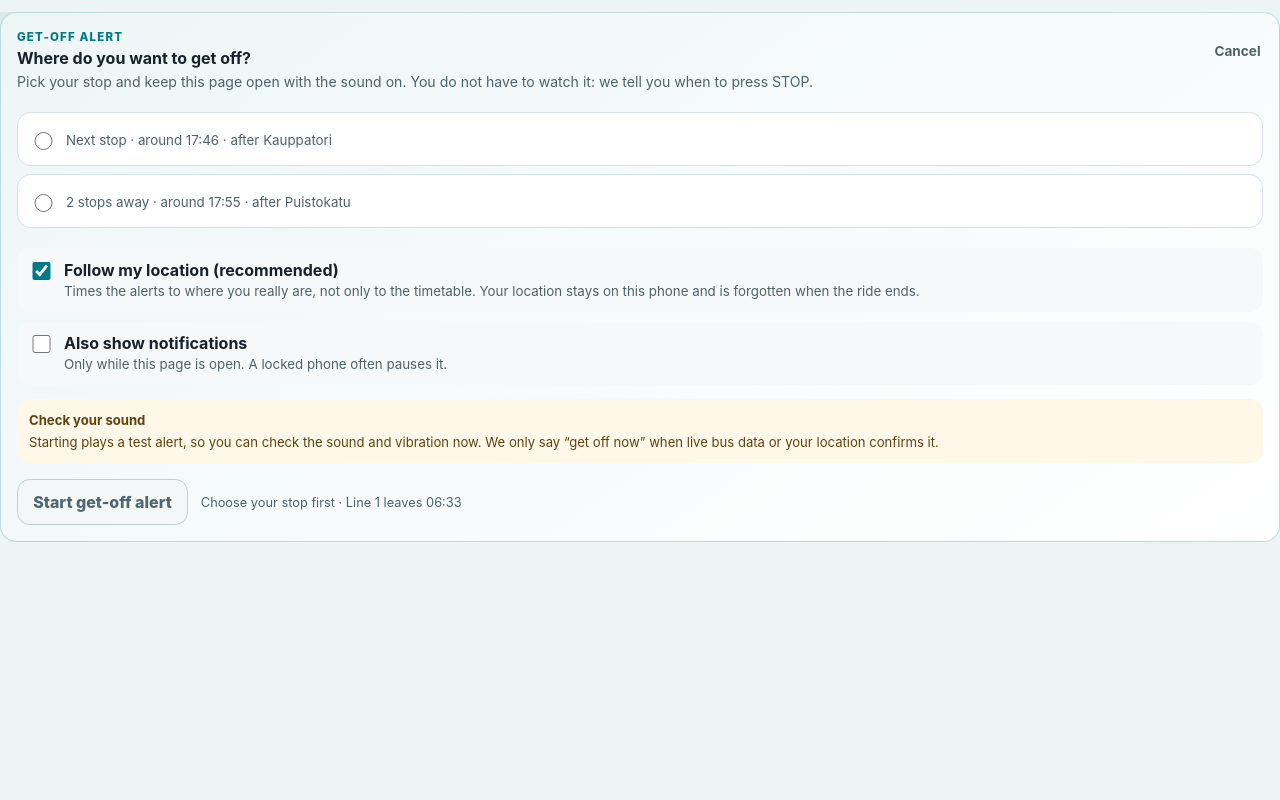
Test: clears a start error once another stop is chosen
This screenshot has width=1280, height=800.
Expected: the button "Start get-off alert" is shown, top-left (17, 479), bottom-right (188, 525)
Click the radio button showing "2" at (43, 141), box top-left (34, 132), bottom-right (53, 150)
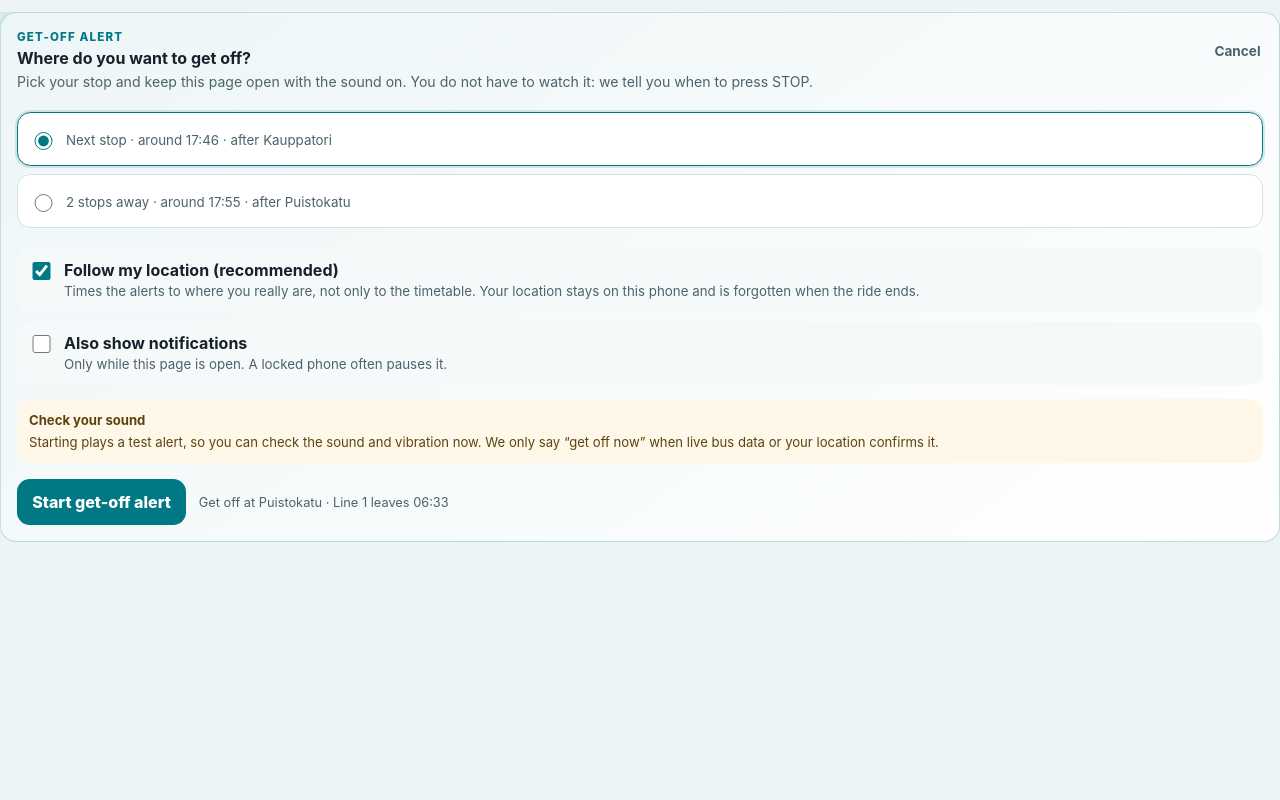
Click the button "Start get-off alert" at (102, 502), box top-left (17, 479), bottom-right (186, 525)
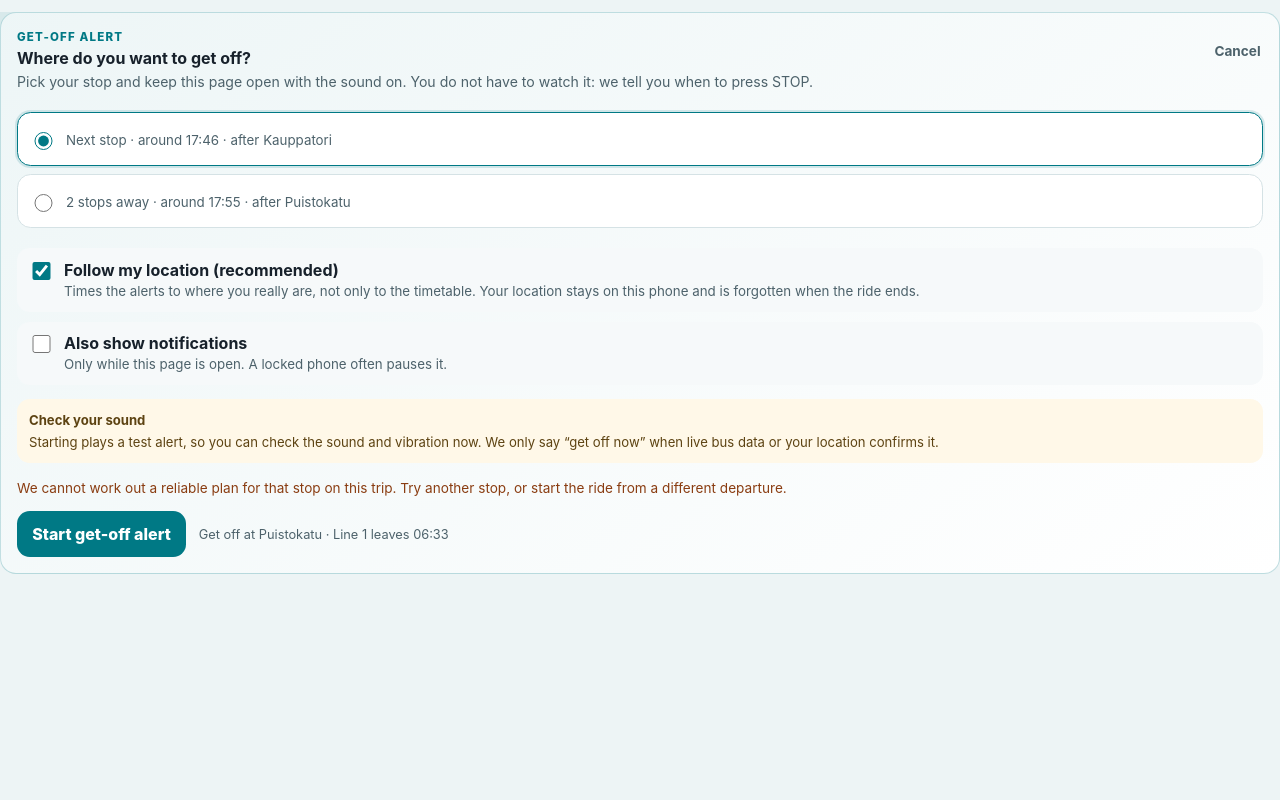
Expected: the message is shown, top-left (17, 480), bottom-right (787, 496)
Click the radio button showing "3" at (43, 203), box top-left (34, 194), bottom-right (53, 212)
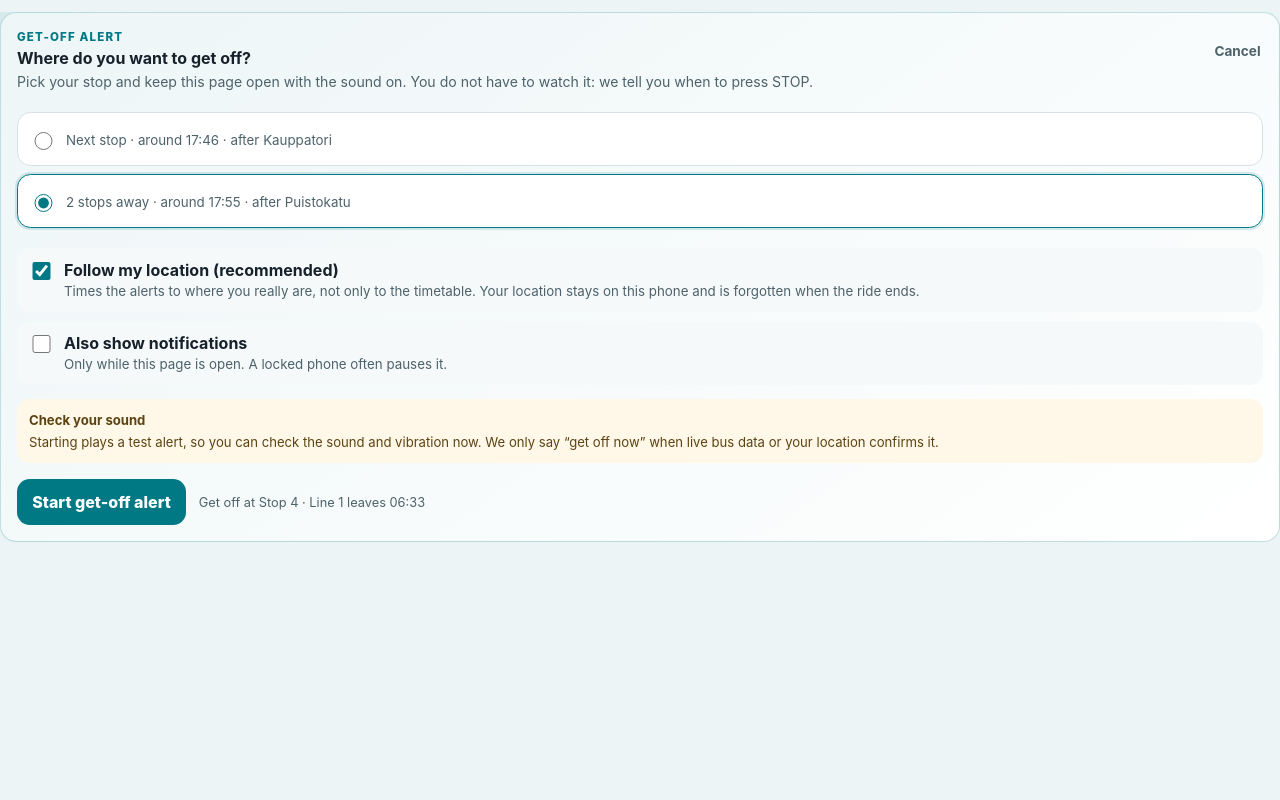
Expected: the message is gone
